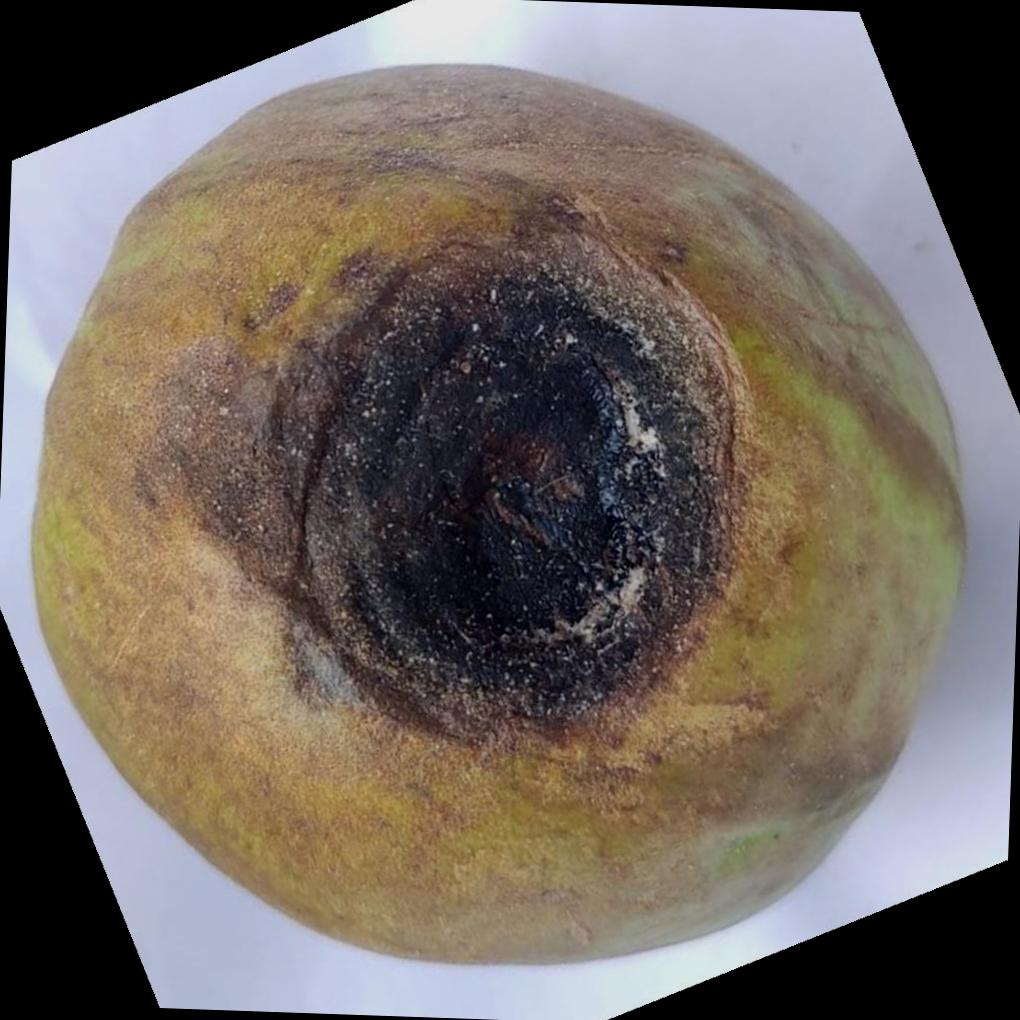FreshOrange: (29, 65, 970, 976)
